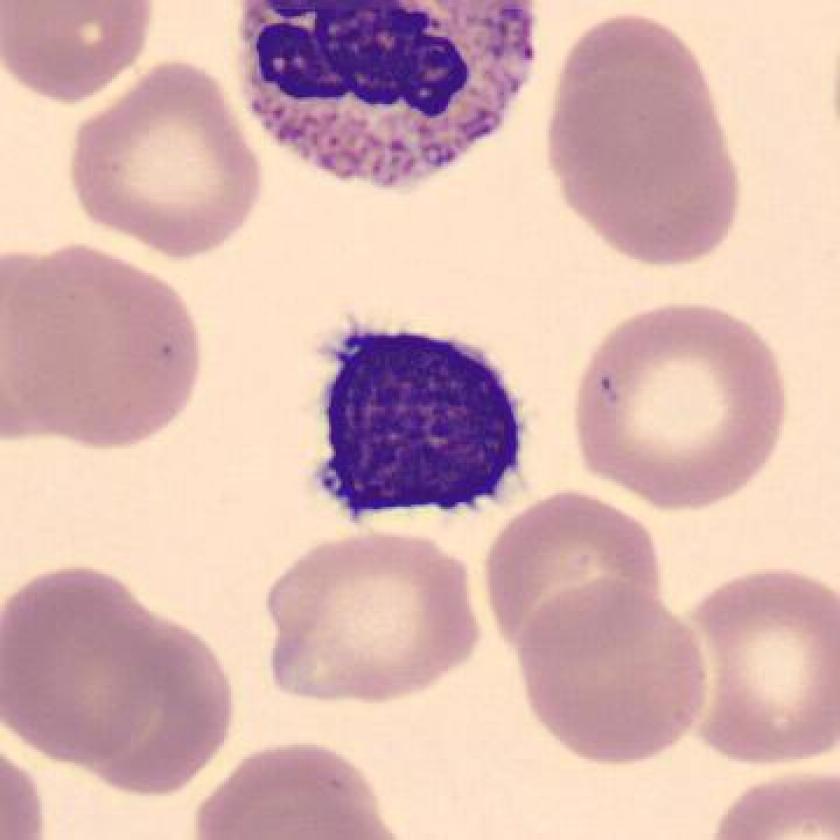lymphocyte: (302, 299, 540, 545)
neutrophil: (226, 1, 544, 199)
